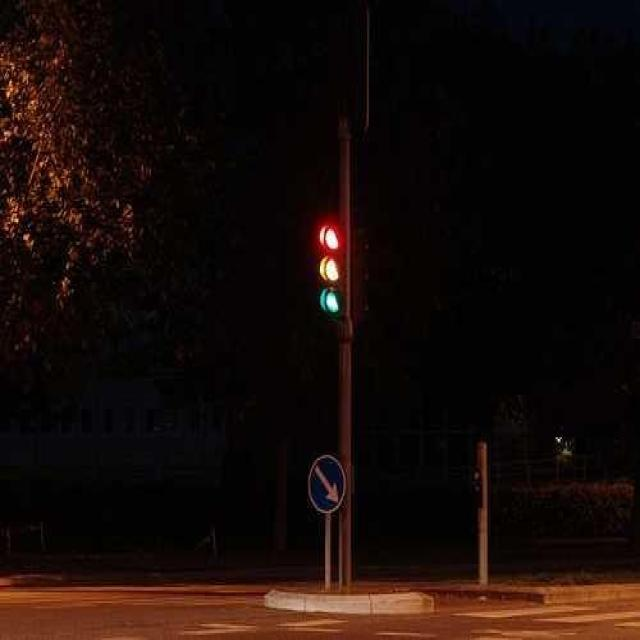Traffic Light -Green-: (315, 286, 348, 322)
Traffic Light -Red-: (314, 220, 351, 254)
Traffic Light -Yellow-: (316, 255, 346, 286)
